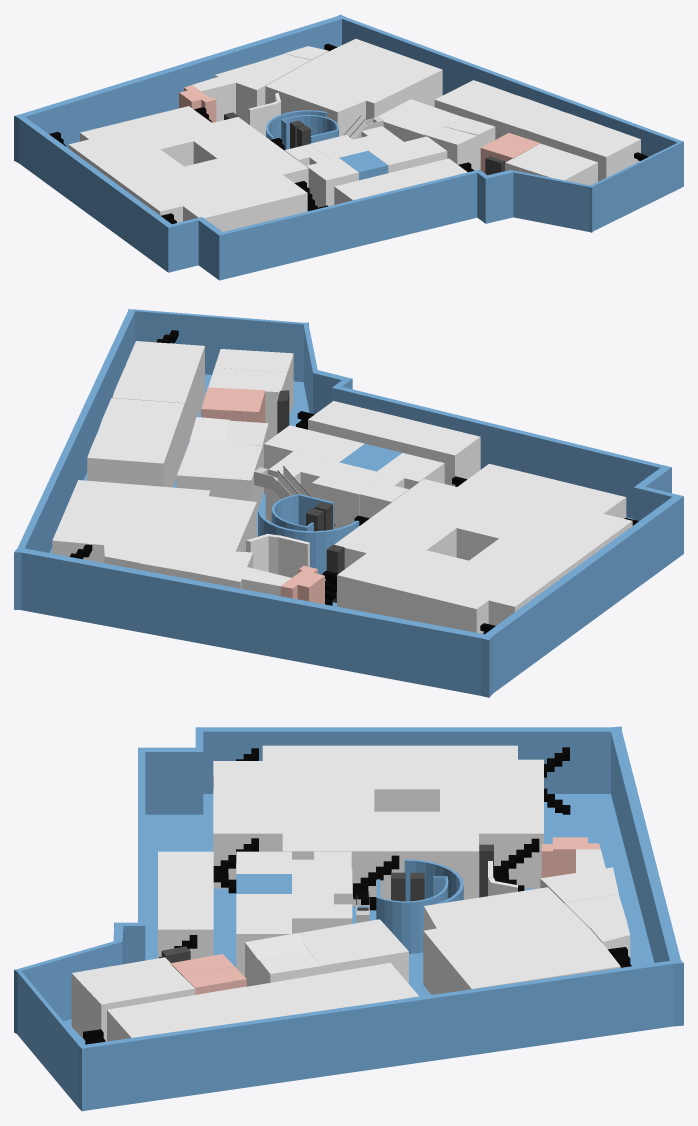
3 renders of one model, top to bottom at view 1: azimuth 30°, elevation 25°; view 2: azimuth 150°, elevation 25°; view 3: azimuth 270°, elevation 25°, orthographic. The views are drawn at different scales.
Visible parts, largest first — view 1: object, 第二開架閲覧室, アクティブラーニング・プラザ, 端末室D, 情報システム課_9_4_1, 端末室B, 端末室A, 作業室, 端末室C, システム開発室, マシン室, 情報システム課_9_4_2 (+16 smaller); view 2: object, 第二開架閲覧室, アクティブラーニング・プラザ, 端末室A, 情報システム課_9_4_1, マシン室, 情報システム課_9_4_2, 端末室C, 端末室B, 端末室D, カウンター, 端末室E (+18 smaller); view 3: object, 第二開架閲覧室, アクティブラーニング・プラザ, 情報システム課_9_4_1, マシン室, 端末室F, 端末室A, 端末室B, 端末室D, 端末室C, 情報システム課_9_4_2, 端末室E (+21 smaller).
Part boxes in pixels (left/top/right/bottom): object: left=14, top=14, right=683, bottom=280; 第二開架閲覧室: left=68, top=106, right=308, bottom=231; アクティブラーニング・プラザ: left=265, top=39, right=442, bottom=136; 端末室D: left=562, top=125, right=640, bottom=181; 情報システム課_9_4_1: left=375, top=99, right=463, bottom=141; 端末室B: left=479, top=95, right=559, bottom=139; 端末室A: left=434, top=80, right=516, bottom=121; 作業室: left=214, top=63, right=283, bottom=123; 端末室C: left=522, top=110, right=602, bottom=151; システム開発室: left=306, top=158, right=358, bottom=207; マシン室: left=310, top=126, right=403, bottom=159; 情報システム課_9_4_2: left=334, top=171, right=414, bottom=204; object: left=14, top=309, right=683, bottom=697; 第二開架閲覧室: left=334, top=463, right=632, bottom=633; アクティブラーニング・プラザ: left=52, top=480, right=256, bottom=562; 端末室A: left=87, top=428, right=174, bottom=487; 情報システム課_9_4_1: left=176, top=439, right=262, bottom=512; マシン室: left=265, top=451, right=386, bottom=528; 情報システム課_9_4_2: left=375, top=417, right=480, bottom=486; 端末室C: left=112, top=367, right=195, bottom=453; 端末室B: left=99, top=398, right=184, bottom=482; 端末室D: left=124, top=341, right=204, bottom=418; カウンター: left=246, top=534, right=309, bottom=577; 端末室E: left=208, top=368, right=287, bottom=440; object: left=14, top=726, right=683, bottom=1111; 第二開架閲覧室: left=213, top=745, right=543, bottom=906; アクティブラーニング・プラザ: left=423, top=887, right=620, bottom=994; 情報システム課_9_4_1: left=298, top=919, right=408, bottom=983; マシン室: left=292, top=869, right=352, bottom=933; 端末室F: left=71, top=965, right=146, bottom=1041; 端末室A: left=318, top=962, right=419, bottom=1007; 端末室B: left=246, top=975, right=345, bottom=1017; 端末室D: left=107, top=999, right=197, bottom=1041; 端末室C: left=172, top=986, right=271, bottom=1028; 情報システム課_9_4_2: left=158, top=851, right=213, bottom=893; 端末室E: left=118, top=957, right=195, bottom=1002.
Size of the model in its own units: 1.95 by 0.2286 by 1.71.
